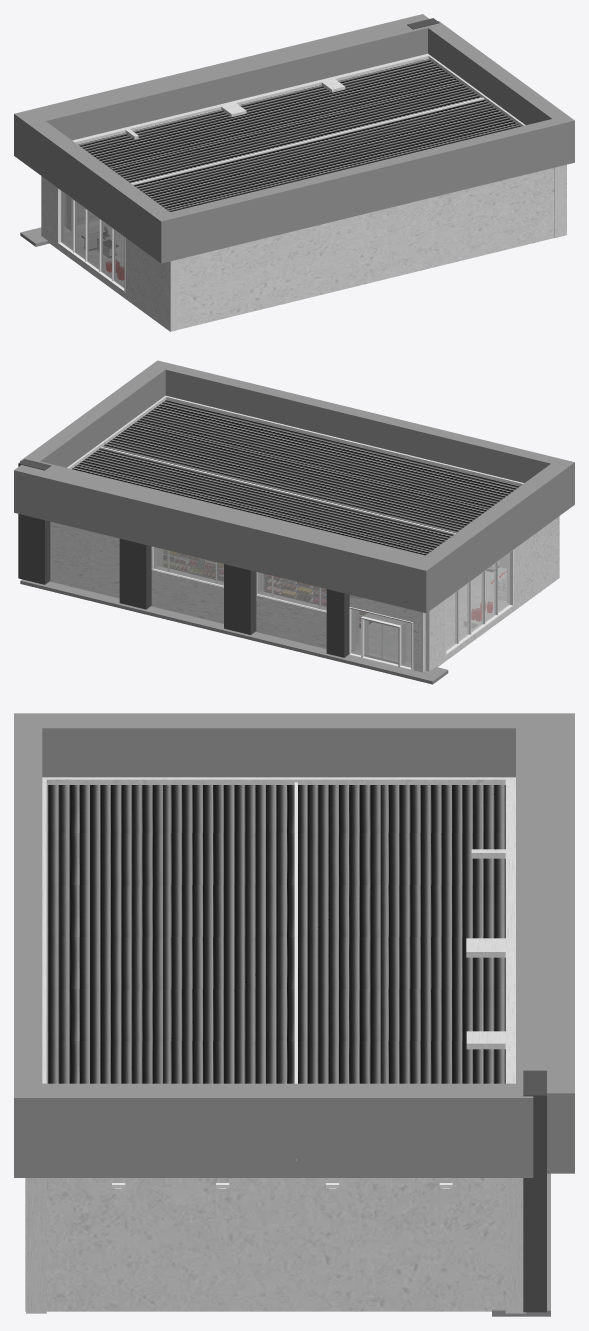
File: store.glb
3 views of the same model, one above another, from view 1: azimuth 30°, elevation 25°; view 2: azimuth 150°, elevation 25°; view 3: azimuth 270°, elevation 25° (orthographic). The views are drawn at different scales.
Parts seen in each view (by area): view 1: Cube.3659_3481, Plane_3487, Cube.2058_1930, Cube.3624_3491, Cube.022_3465, Cube.2057_1929, Cube.053_3490, Cube_0, Cube.024_3466, Plane.001_1, Cube.027_3468, Cube.026_3467; view 2: Cube.3659_3481, Plane_3487, Cube.2057_1929, Cube.3663_3485, Cube.3624_3491, Cube.3660_3482, Cube.022_3465, Plane.001_1, Cube.3658_3480, Cube.3656_3478, Cube.055_3477, Cube.2058_1930 (+10 smaller); view 3: Plane_3487, Cube.3659_3481, Cube.053_3490, Cube.2057_1929, Cube.3658_3480, Cube.2058_1930, Cube.3624_3491, Cube_0, Cube.3660_3482.
Part boxes in pixels (x1=…): Cube.3659_3481: x1=14, y1=14, x2=574, y2=263; Plane_3487: x1=78, y1=59, x2=520, y2=211; Cube.2058_1930: x1=176, y1=164, x2=566, y2=329; Cube.3624_3491: x1=41, y1=176, x2=176, y2=331; Cube.022_3465: x1=61, y1=191, x2=124, y2=287; Cube.2057_1929: x1=72, y1=54, x2=429, y2=144; Cube.053_3490: x1=426, y1=53, x2=565, y2=237; Cube_0: x1=131, y1=97, x2=484, y2=185; Cube.024_3466: x1=57, y1=187, x2=125, y2=292; Plane.001_1: x1=64, y1=224, x2=123, y2=267; Cube.027_3468: x1=85, y1=209, x2=102, y2=271; Cube.026_3467: x1=73, y1=200, x2=115, y2=280; Cube.3659_3481: x1=14, y1=360, x2=574, y2=613; Plane_3487: x1=72, y1=400, x2=519, y2=555; Cube.2057_1929: x1=50, y1=521, x2=425, y2=672; Cube.3663_3485: x1=153, y1=547, x2=411, y2=667; Cube.3624_3491: x1=425, y1=516, x2=559, y2=671; Cube.3660_3482: x1=20, y1=579, x2=448, y2=684; Cube.022_3465: x1=446, y1=553, x2=509, y2=650; Plane.001_1: x1=356, y1=567, x2=506, y2=662; Cube.3658_3480: x1=18, y1=459, x2=51, y2=584; Cube.3656_3478: x1=119, y1=538, x2=151, y2=609; Cube.055_3477: x1=224, y1=564, x2=256, y2=634; Cube.2058_1930: x1=166, y1=396, x2=523, y2=568; Plane_3487: x1=46, y1=785, x2=505, y2=1083; Cube.3659_3481: x1=14, y1=713, x2=574, y2=1177; Cube.053_3490: x1=25, y1=1178, x2=505, y2=1311; Cube.2057_1929: x1=466, y1=777, x2=526, y2=1313; Cube.3658_3480: x1=523, y1=1070, x2=546, y2=1312; Cube.2058_1930: x1=26, y1=777, x2=46, y2=1313; Cube.3624_3491: x1=42, y1=777, x2=515, y2=784; Cube_0: x1=294, y1=782, x2=297, y2=1083; Cube.3660_3482: x1=492, y1=1173, x2=550, y2=1316.
Size of the model in its own units: 29.47 by 8.01 by 18.14.
Materials: 29 (16 with a texture image).
